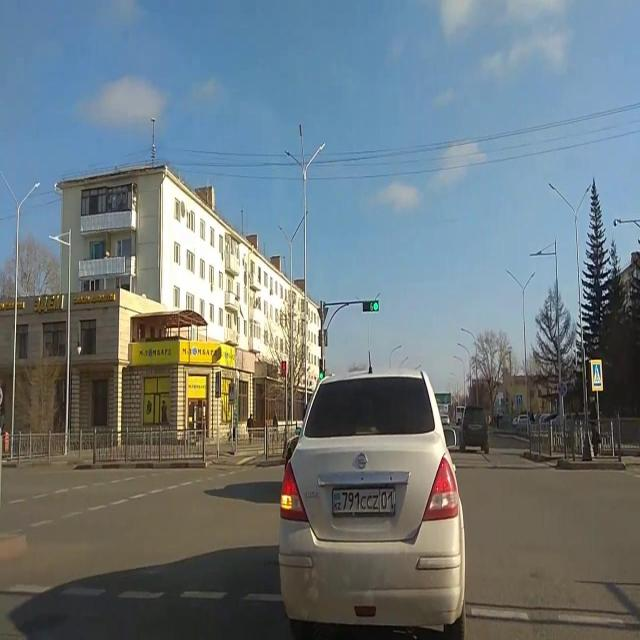car: (278, 361, 466, 638)
license: (332, 486, 396, 516)
